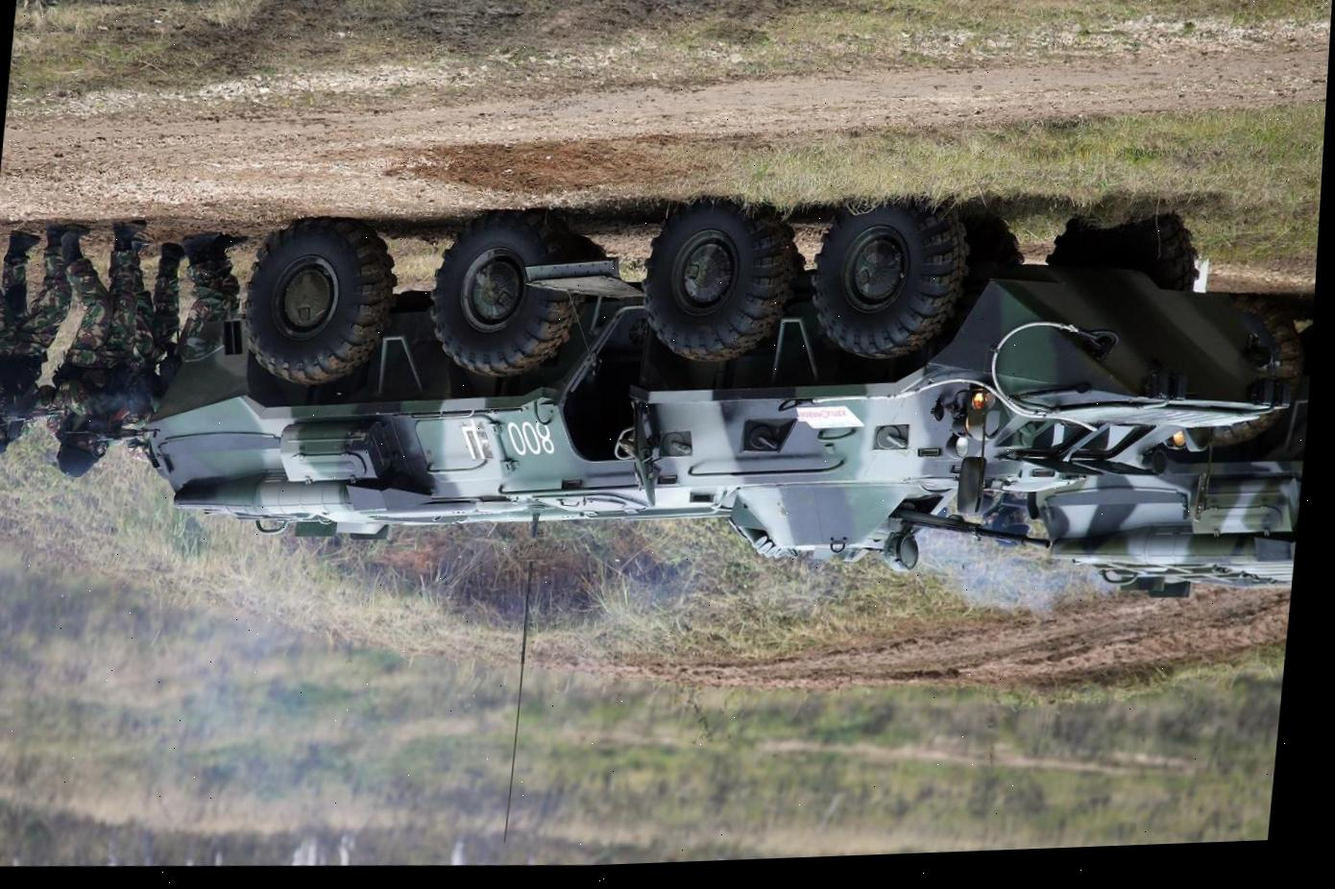person: (44, 204, 160, 486), (0, 215, 75, 464), (110, 240, 190, 465), (0, 214, 43, 470)
tank: (135, 105, 1318, 616), (1018, 277, 1316, 612)
